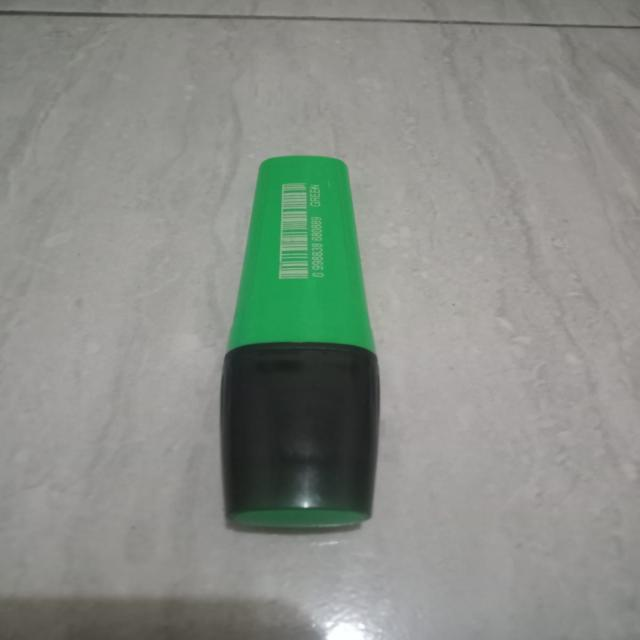highlighter: (197, 124, 416, 570)
